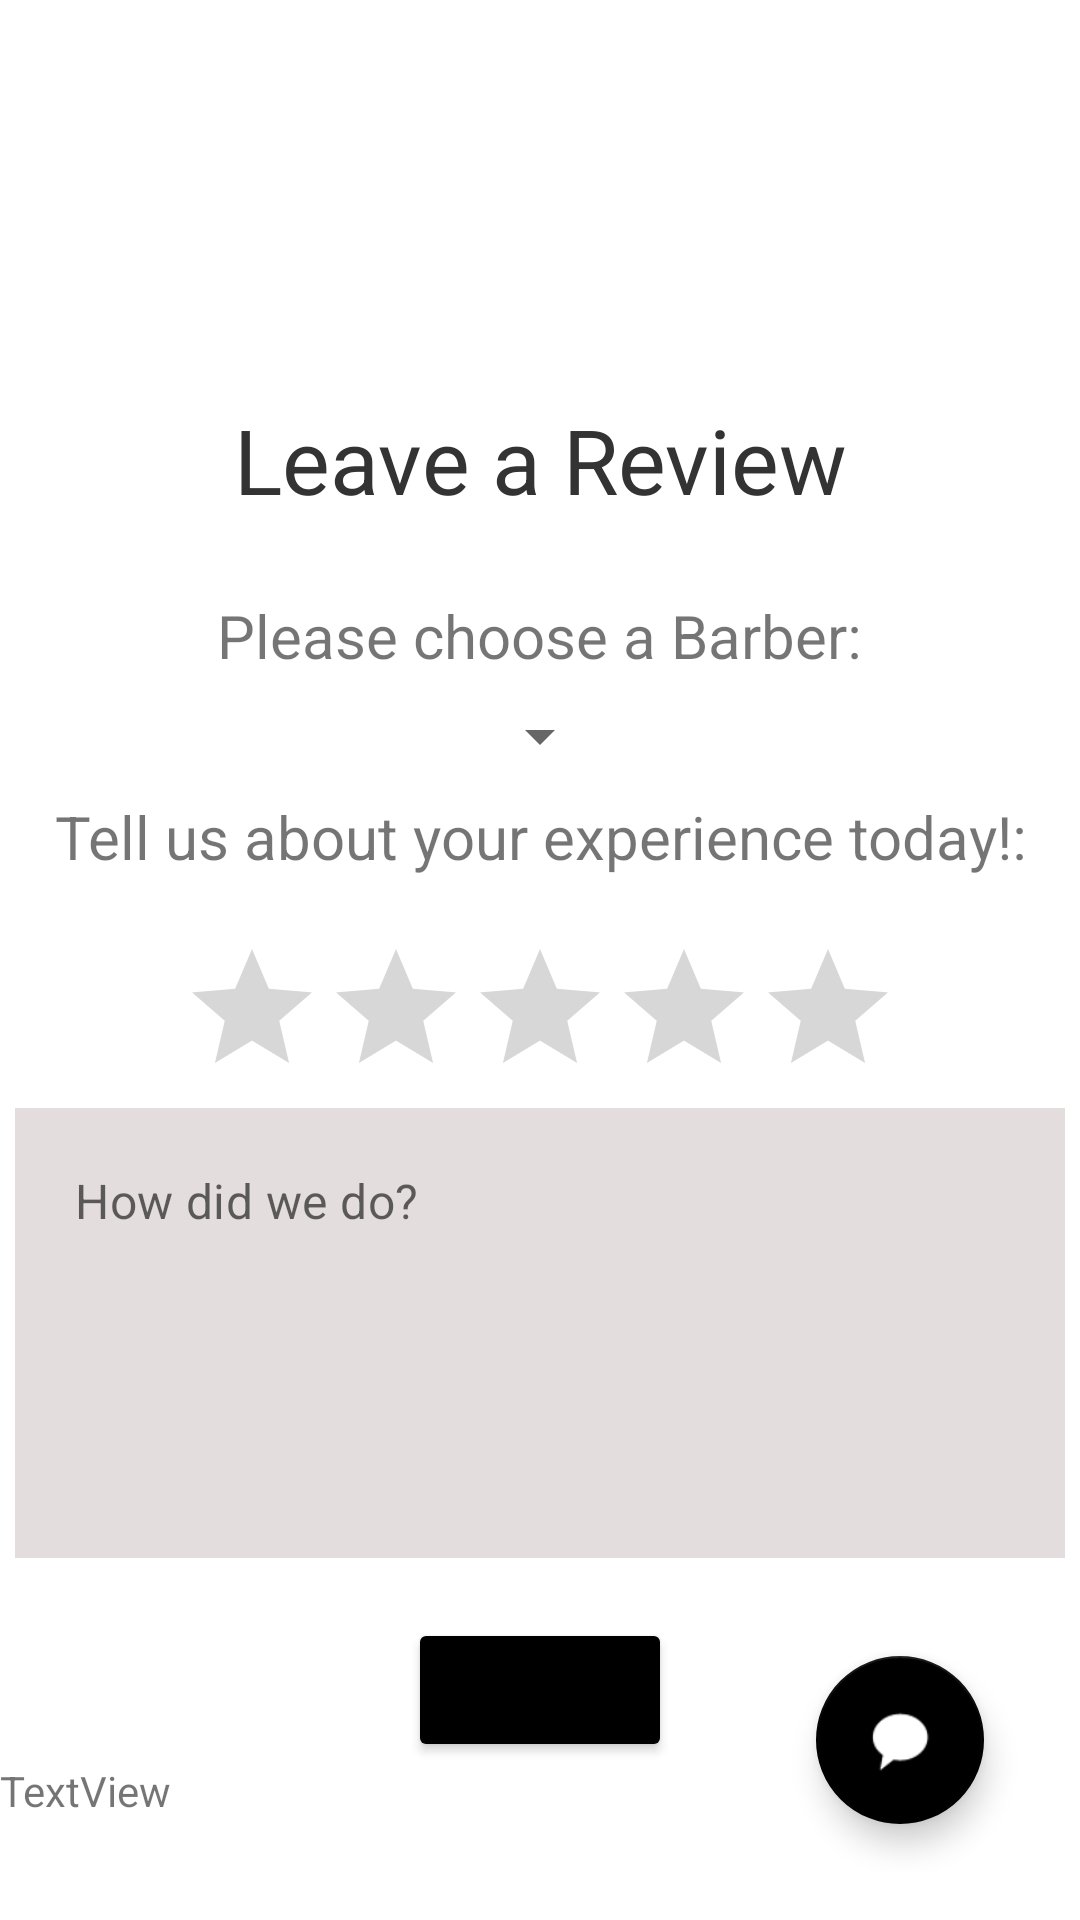

Named icons in this screenshot (1080w x 1920h) and their centers, (x=x, y=y):
sym action chat: (x=900, y=1740)
